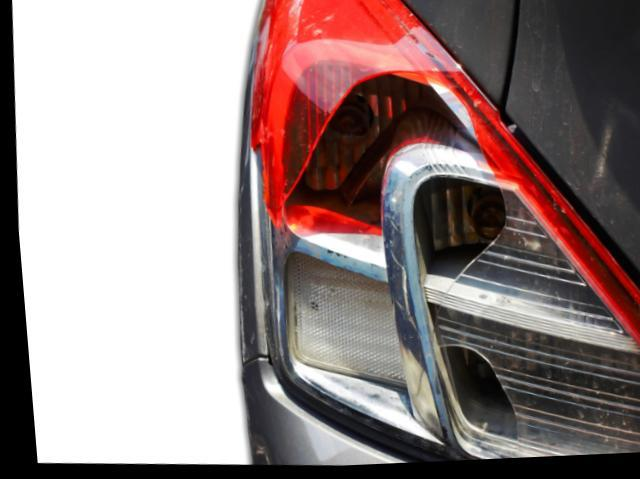lamp broken: (248, 0, 640, 466)
